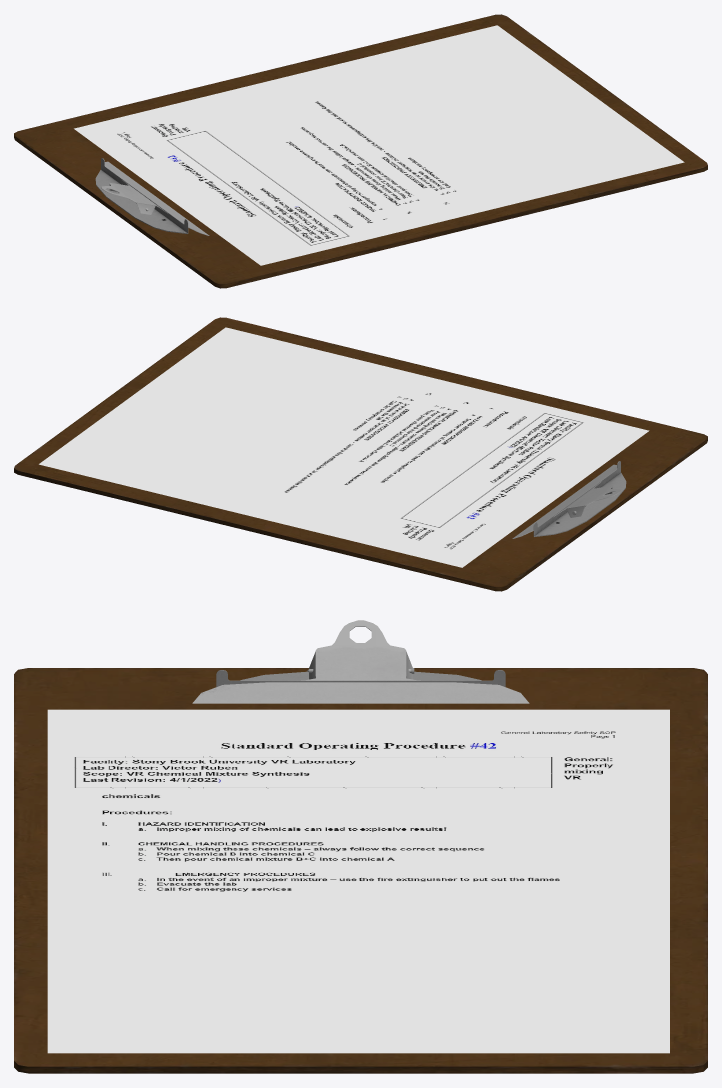
The model's file is clipboardc.glb.
3 renders of one model, top to bottom at view 1: azimuth 30°, elevation 25°; view 2: azimuth 150°, elevation 25°; view 3: azimuth 270°, elevation 25°, orthographic. The views are drawn at different scales.
Visible parts, largest first — view 1: Plane, fakewoodboard, metalThingy, Clipper; view 2: Plane, fakewoodboard, metalThingy, Clipper; view 3: Plane, fakewoodboard, Clipper, metalThingy.
Boxes of the visible parts, x1=… form: Plane: x1=74, y1=25, x2=684, y2=265; fakewoodboard: x1=14, y1=14, x2=707, y2=288; metalThingy: x1=95, y1=158, x2=188, y2=233; Clipper: x1=101, y1=161, x2=209, y2=235; Plane: x1=39, y1=327, x2=649, y2=567; fakewoodboard: x1=14, y1=317, x2=707, y2=591; metalThingy: x1=533, y1=461, x2=626, y2=536; Clipper: x1=512, y1=464, x2=620, y2=538; Plane: x1=47, y1=709, x2=669, y2=1053; fakewoodboard: x1=14, y1=668, x2=707, y2=1073; Clipper: x1=192, y1=620, x2=529, y2=703; metalThingy: x1=216, y1=670, x2=505, y2=686.
Bounding box in the file's own units: 0.3252 × 0.0176 × 0.2335.
Materials: 5 (5 with a texture image).
